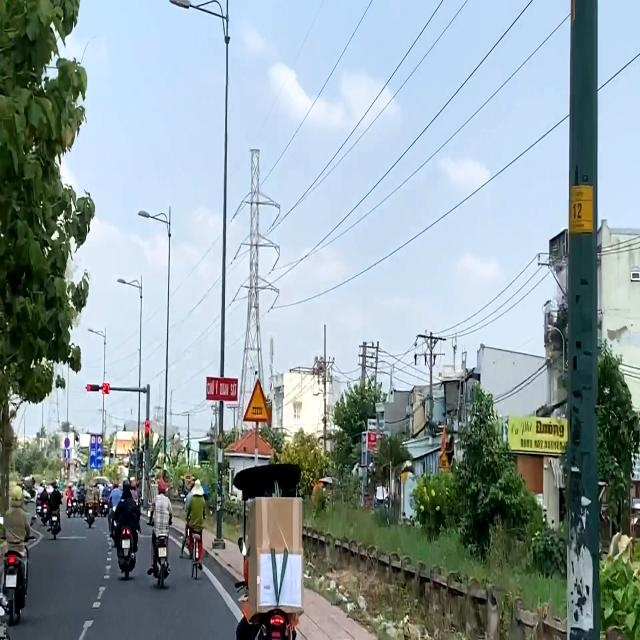bien_nguy_hiem: (242, 376, 272, 424)
